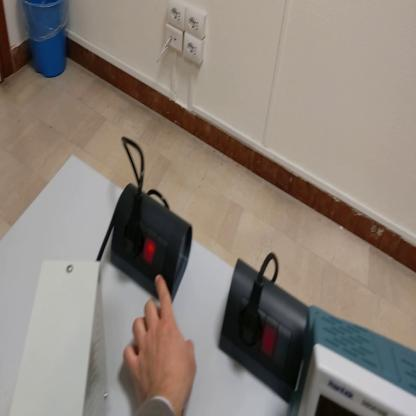hand: (127, 275, 197, 406)
oscilloscope: (298, 305, 416, 416)
power supply: (10, 256, 108, 416)
socket: (218, 254, 312, 408), (108, 180, 196, 304)
